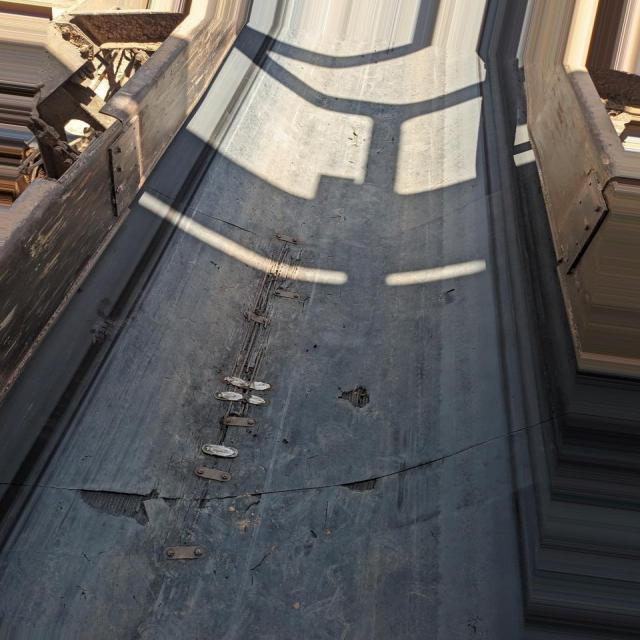Tear: (44, 422, 519, 522), (204, 209, 272, 247), (333, 382, 375, 409), (443, 285, 478, 310)
patch work: (188, 225, 309, 487), (152, 516, 213, 580)
